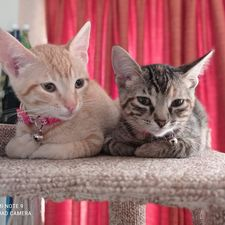cat: (1, 20, 110, 160), (105, 40, 222, 158)
